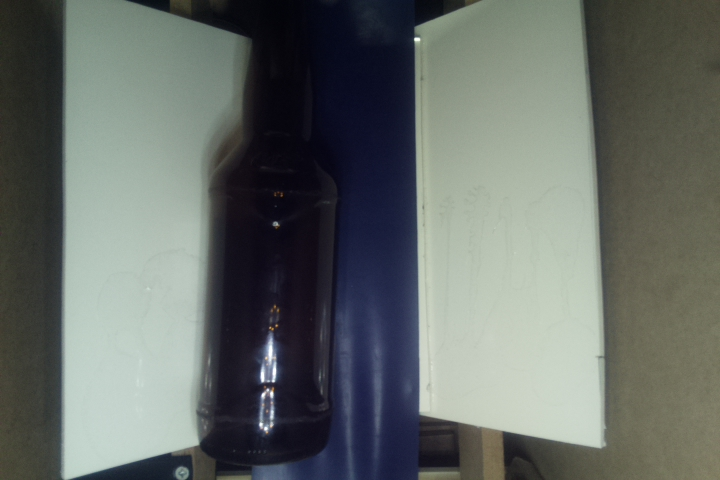makju: (200, 1, 340, 460)
